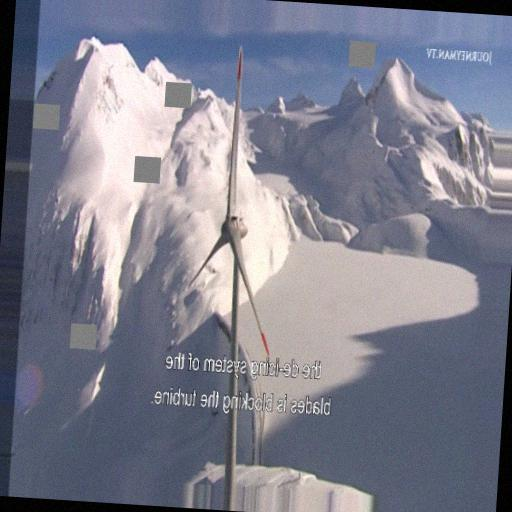wind turbine: (186, 46, 270, 474)
